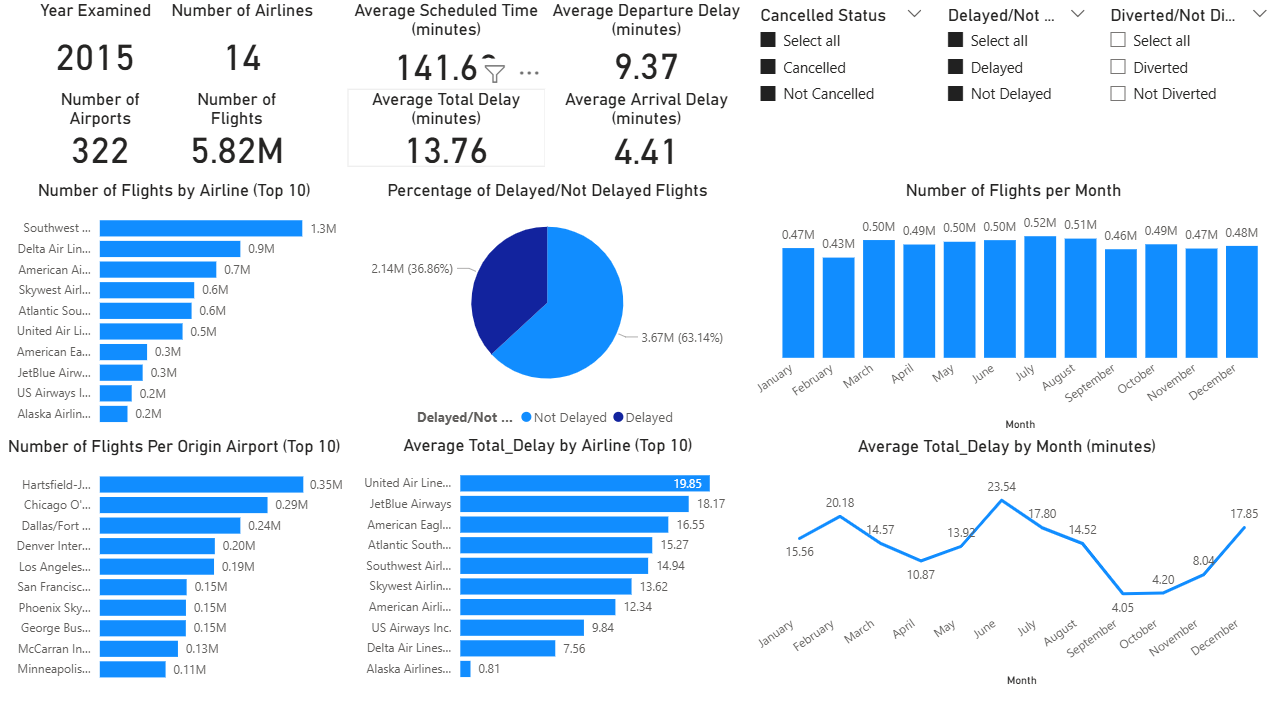

The page's visual inventory and layout, read from the dashboard file:
{"tool":"powerbi","page":{"name":"Intro","canvas":[1280,720],"ordinal":0},"visuals":[{"type":"card","title":"Number of Airports","fields":{"Values":["CountNonNull(airports.AIRPORT)"]},"box":[26,89.3,147.9,79.1],"z":0},{"type":"card","title":"Year Examined","fields":{"Values":["Max(flights.YEAR)"]},"box":[26,0,138.6,89.3],"z":1000},{"type":"card","title":"Number of Flights","fields":{"Values":["CountNonNull(flights.FLIGHT_NUMBER)"]},"box":[164.7,89.3,143.3,79.1],"z":2000},{"type":"card","title":"Number of Airlines","fields":{"Values":["CountNonNull(airlines.AIRLINE)"]},"box":[164.7,0,154.4,89.3],"z":3000},{"type":"card","title":"Average Scheduled Time (minutes)","fields":{"Values":["Avg(flights.SCHEDULED_TIME)"]},"box":[347.9,0,197.2,89.3],"z":4000},{"type":"slicer","fields":{"Values":["flights.Cancelled Status"]},"box":[747.9,0,187,128.4],"z":5000},{"type":"barChart","title":"Number of Flights by Airline (Top 10)","fields":{"Y":["CountNonNull(flights.FLIGHT_NUMBER)"],"Category":["airlines.AIRLINE"]},"box":[0,180.5,347.9,255.8],"z":6000},{"type":"barChart","title":"Number of Flights Per Origin Airport (Top 10)","fields":{"Y":["CountNonNull(flights.FLIGHT_NUMBER)"],"Category":["airports.AIRPORT","flights.ORIGIN_AIRPORT"]},"box":[0,436.3,347.9,254.9],"z":7000},{"type":"card","title":"Average Total Delay (minutes)","fields":{"Values":["Avg(flights.Total_Delay)"]},"box":[347.9,88.4,197.2,79.1],"z":8000},{"type":"card","title":"Average Departure Delay (minutes)","fields":{"Values":["Avg(flights.DEPARTURE_DELAY)"]},"box":[545.1,0,202.8,88.4],"z":9000},{"type":"slicer","fields":{"Values":["flights.Delayed/Not Delayed Flights"]},"box":[934.9,0,162.8,116.3],"z":10000},{"type":"card","title":"Average Arrival Delay (minutes)","fields":{"Values":["Avg(flights.ARRIVAL_DELAY)"]},"box":[545.1,88.4,202.8,80],"z":11000},{"type":"barChart","title":"Average Total_Delay by Airline (Top 10)","fields":{"Category":["airlines.AIRLINE"],"Y":["Avg(flights.Total_Delay)"]},"box":[347.9,435.3,400,255.8],"z":12000},{"type":"pieChart","title":"Percentage of Delayed/Not Delayed Flights","fields":{"Y":["CountNonNull(flights.FLIGHT_NUMBER)"],"Category":["flights.Delayed/Not Delayed Flights"]},"box":[347.9,180.5,400,255.8],"z":13000},{"type":"columnChart","title":"Number of Flights per Month","fields":{"Category":["months.month_name.Variation.Date Hierarchy.Year","months.month_name.Variation.Date Hierarchy.Quarter","months.month_name.Variation.Date Hierarchy.Month","months.month_name.Variation.Date Hierarchy.Day"],"Y":["CountNonNull(flights.FLIGHT_NUMBER)"]},"box":[747.9,180.5,532.1,255.8],"z":14000},{"type":"lineChart","title":"Average Total_Delay by Month (minutes)","fields":{"Y":["Avg(flights.Total_Delay)"],"Category":["months.month_name.Variation.Date Hierarchy.Year","months.month_name.Variation.Date Hierarchy.Quarter","months.month_name.Variation.Date Hierarchy.Month","months.month_name.Variation.Date Hierarchy.Day"]},"box":[747.9,436.3,518.1,254.9],"z":15000},{"type":"slicer","fields":{"Values":["flights.Diverted/Not Diverted Flights"]},"box":[1097.7,0,182.3,116.3],"z":16000}]}

Visuals, with their boxes in screenshot pixels (x1, y1, x2, y2), scaled from the page's 1280x720 canvas onto the 1277x717 screenshot:
"Number of Airports" card: [26, 89, 173, 168]
"Year Examined" card: [26, 0, 164, 89]
"Number of Flights" card: [164, 89, 307, 168]
"Number of Airlines" card: [164, 0, 318, 89]
"Average Scheduled Time (minutes)" card: [347, 0, 544, 89]
slicer - flights.Cancelled Status: [746, 0, 933, 128]
"Number of Flights by Airline (Top 10)" barChart: [0, 180, 347, 434]
"Number of Flights Per Origin Airport (Top 10)" barChart: [0, 434, 347, 688]
"Average Total Delay (minutes)" card: [347, 88, 544, 167]
"Average Departure Delay (minutes)" card: [544, 0, 746, 88]
slicer - flights.Delayed/Not Delayed Flights: [933, 0, 1095, 116]
"Average Arrival Delay (minutes)" card: [544, 88, 746, 168]
"Average Total_Delay by Airline (Top 10)" barChart: [347, 433, 746, 688]
"Percentage of Delayed/Not Delayed Flights" pieChart: [347, 180, 746, 434]
"Number of Flights per Month" columnChart: [746, 180, 1276, 434]
"Average Total_Delay by Month (minutes)" lineChart: [746, 434, 1263, 688]
slicer - flights.Diverted/Not Diverted Flights: [1095, 0, 1276, 116]
